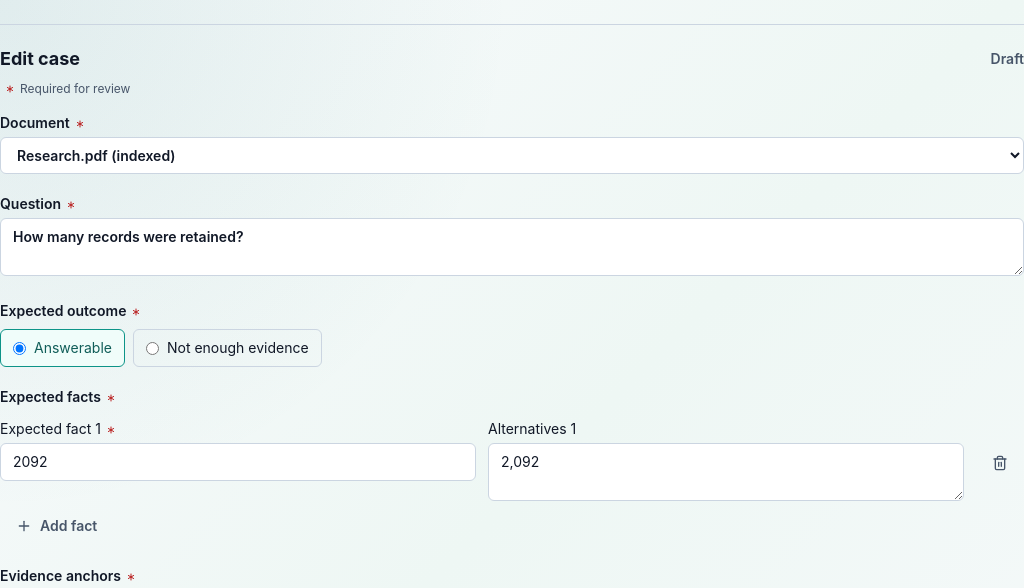
Test: BenchmarkCaseEditor › identifies outcome-specific required fields without requiring optional negative anchors
Expected: the text "Required for review" is shown, [20, 81, 130, 97]
Click the radio button labelled "Not enough evidence".
click(152, 348)  # box [146, 342, 159, 354]
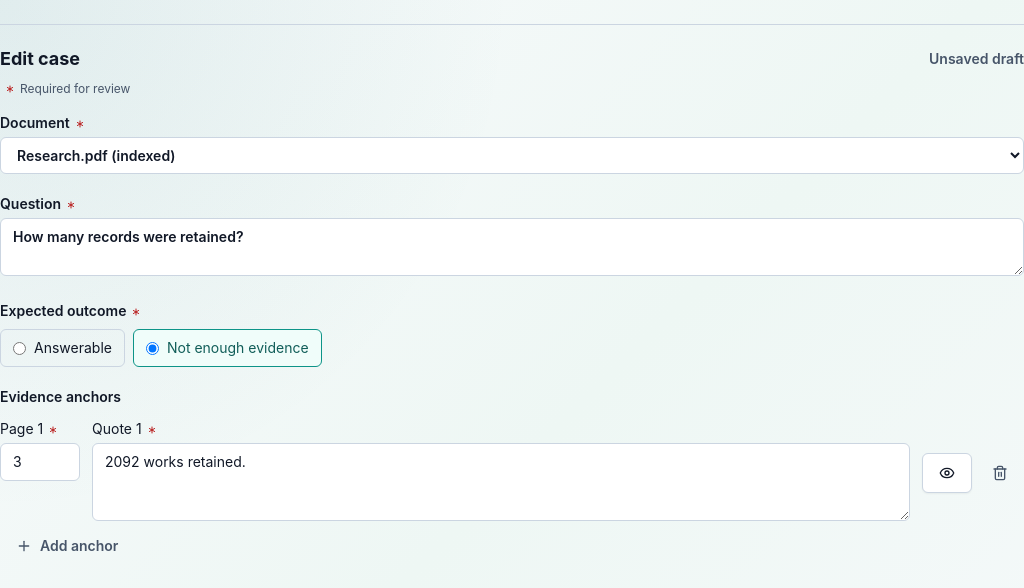
Expected: the label labelled "Expected fact 1" is gone
